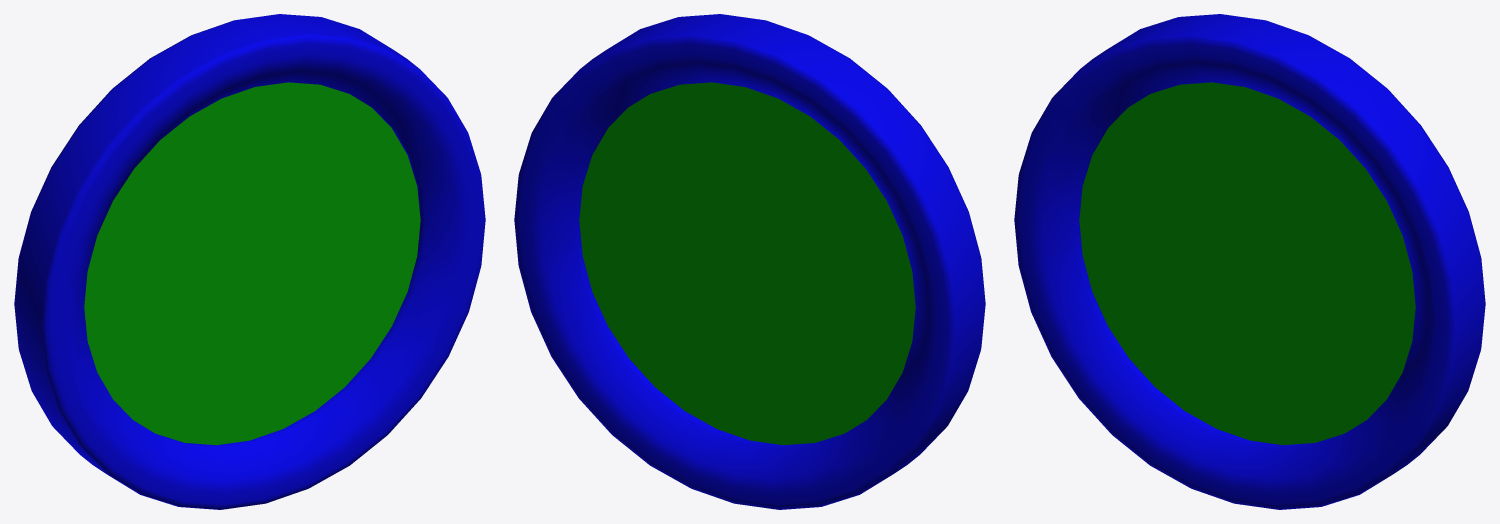
Rendered from FullWindow.fbx.
3 renders of one model, left to right at view 1: azimuth 30°, elevation 25°; view 2: azimuth 150°, elevation 25°; view 3: azimuth 330°, elevation 25°, orthographic.
Visible parts, largest first — view 1: Glass, Trim; view 2: Glass, Trim; view 3: Glass, Trim.
Part boxes in pixels (x1,y1,x2,y2): Glass: (84,82,420,445); Trim: (14,14,485,509); Glass: (579,82,915,445); Trim: (514,14,985,509); Glass: (1079,82,1415,445); Trim: (1014,14,1485,509).
Size of the model in its own units: 6.89 by 6.89 by 0.888.
